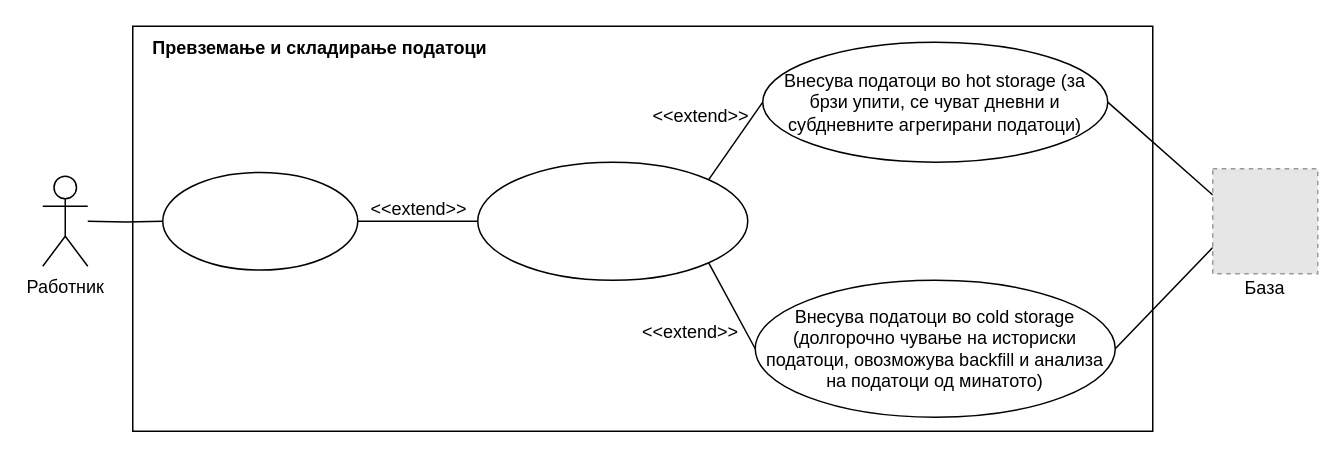
Some shapes in this 1344 by 458 pixel diagram are drawn without their labels. Grey dashed boxes stand in for pictures. Each missing label, with the centre of its shape:
Доставува податоци до ETL (extract transform load) процес или pipe and filter: point 612,220
Собира податоци од крипто берзи: point 259,220
